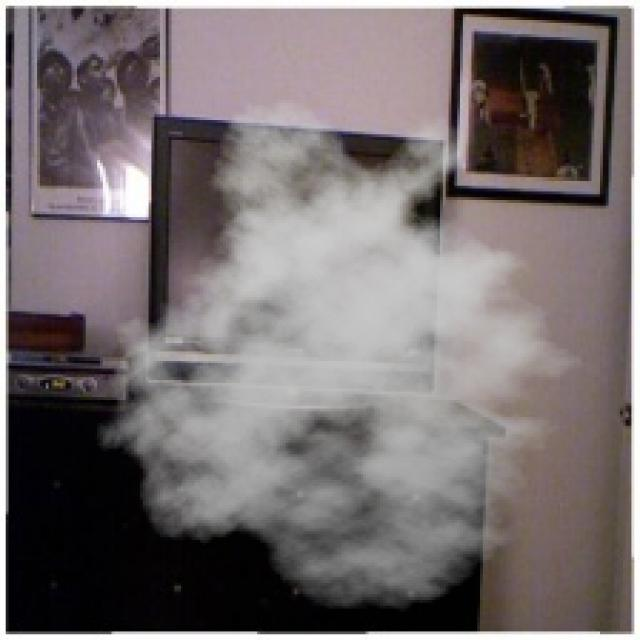smoke: (83, 97, 606, 612)
